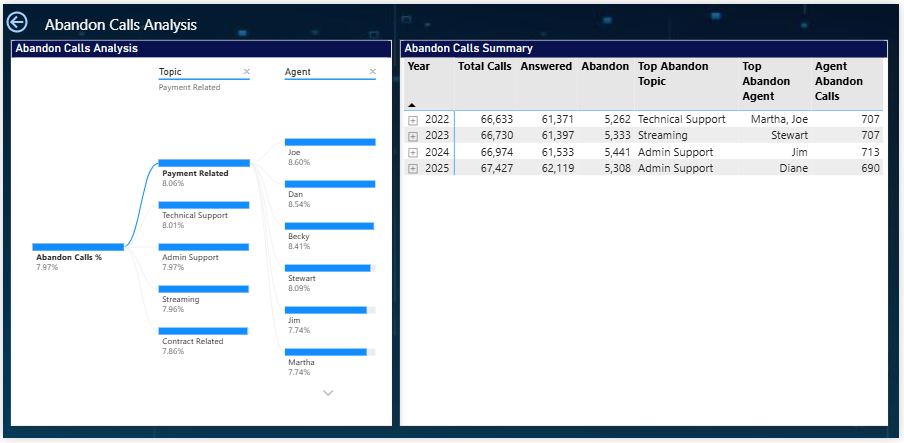

What the dashboard file says about the page in this screenshot:
{"tool":"powerbi","page":{"name":"Abandon_Drill_through","canvas":[1280,620],"ordinal":5},"visuals":[{"type":"pivotTable","fields":{"Rows":["dim_calendar.Year","dim_calendar.Month_Name","dim_calendar.Date"],"Values":["DAX_Measures.Calls_Curr_Total_Value","DAX_Measures.Ans_Calls_Curr_Val","DAX_Measures.Abandon_Calls_Curr_Val","DAX_Measures.Abandon Top Topic Category","DAX_Measures.Abandon Calls Top Agent","DAX_Measures.Abandon Calls Top Agent Count"]},"box":[567.4,51.2,697.4,550.7],"z":0},{"type":"textbox","box":[60,14.3,594.3,30],"z":1000},{"type":"decompositionTreeVisual","fields":{"Analyze":["DAX_Measures.Abandon Calls %"],"ExplainBy":["dim_topics.Topic","dim_agents.Agent"]},"box":[11.1,51.2,543.8,550.7],"z":1000},{"type":"actionButton","box":[0,5.7,100,40],"z":2000}]}

Visuals, with their boxes in screenshot pixels (x1, y1, x2, y2), scaled from the page's 1280x620 canvas onto the 904x443 screenshot:
pivotTable - dim_calendar.Year x dim_calendar.Month_Name: <region>401, 37, 893, 430</region>
textbox: <region>42, 10, 462, 32</region>
decompositionTreeVisual - DAX_Measures.Abandon Calls % x dim_topics.Topic: <region>8, 37, 392, 430</region>
actionButton: <region>0, 4, 71, 33</region>
